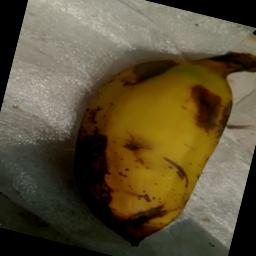Banana Overripe: (54, 10, 256, 256)
